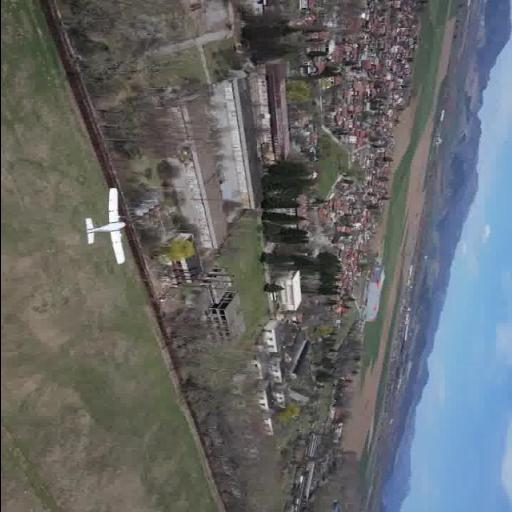uav: (79, 185, 127, 266)
